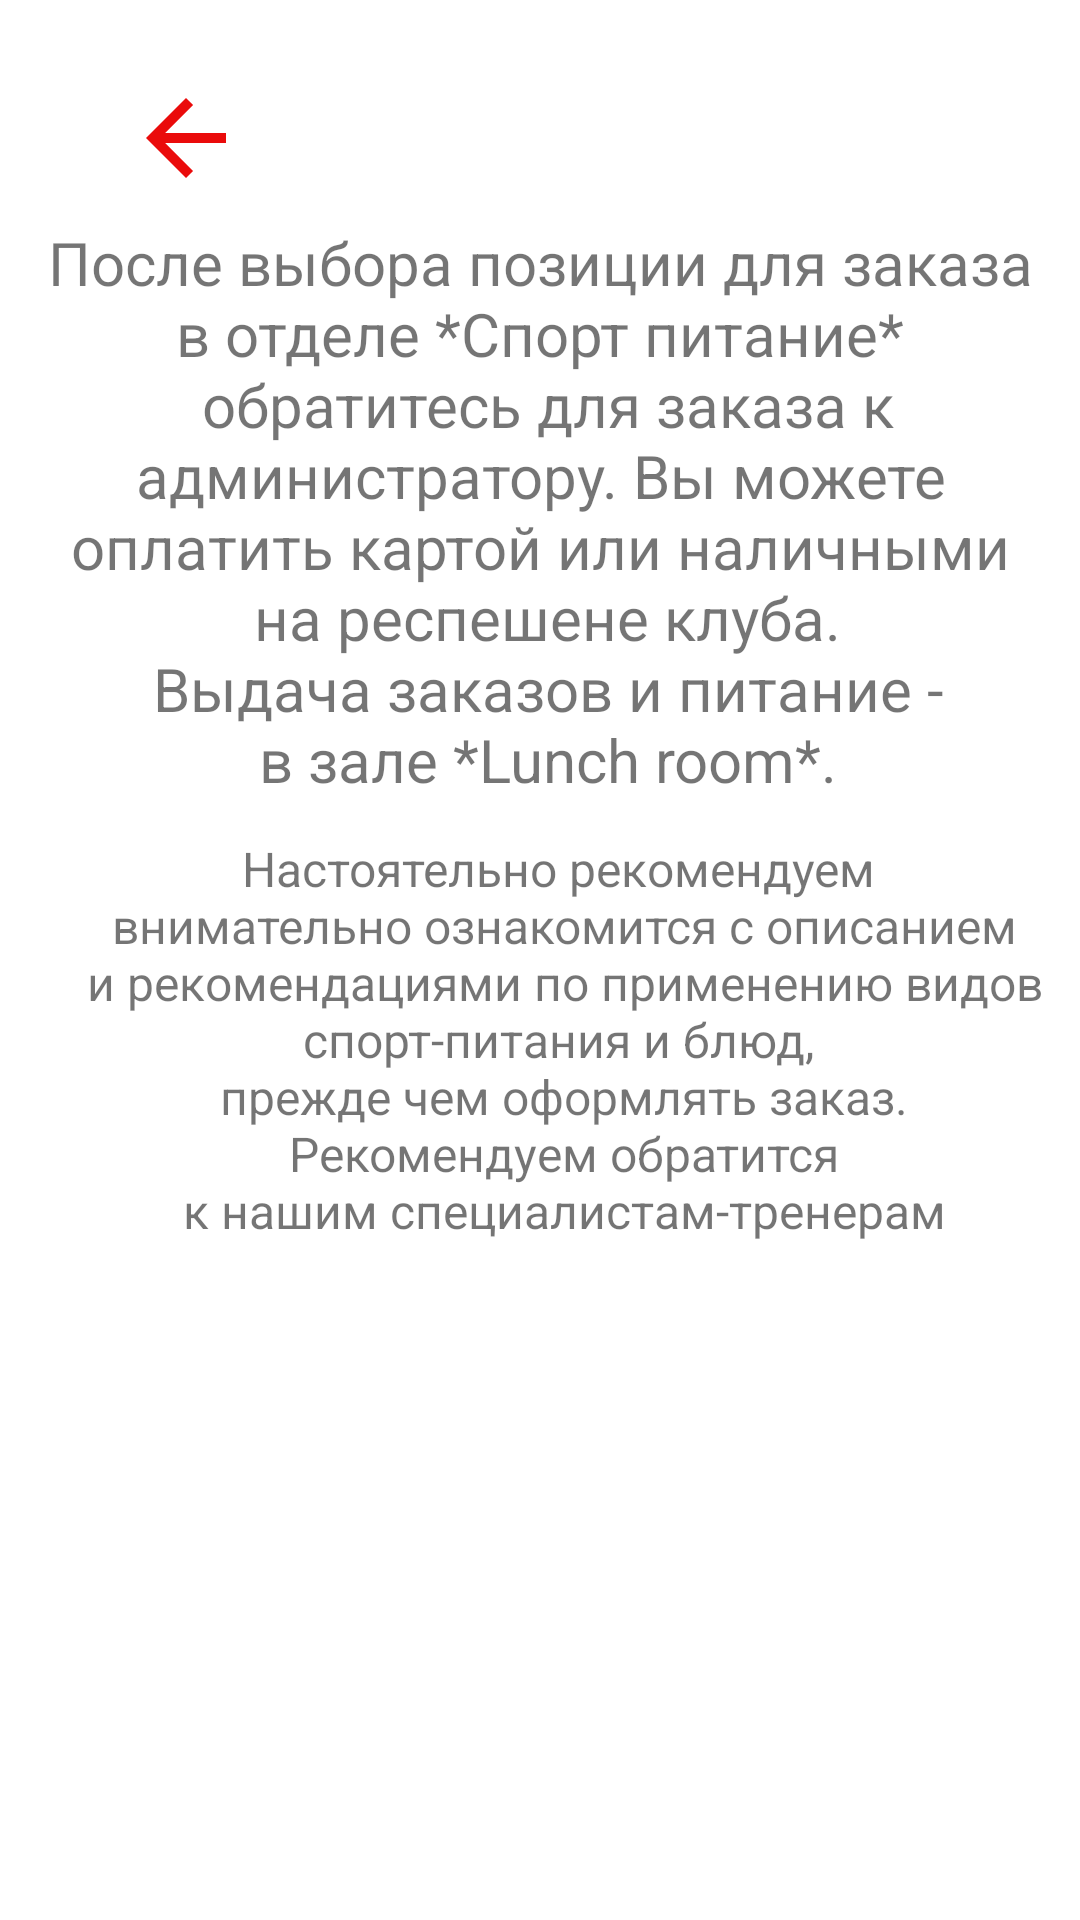

Screen size 1080 × 1920. Icon name, then its center in pixels as (x,y):
arrow back: (186,138)
